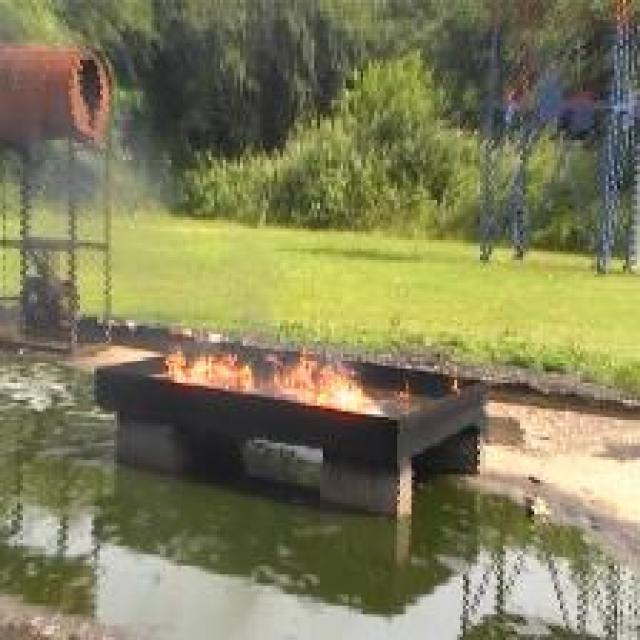Fire: (268, 352, 376, 408), (162, 346, 258, 392)
